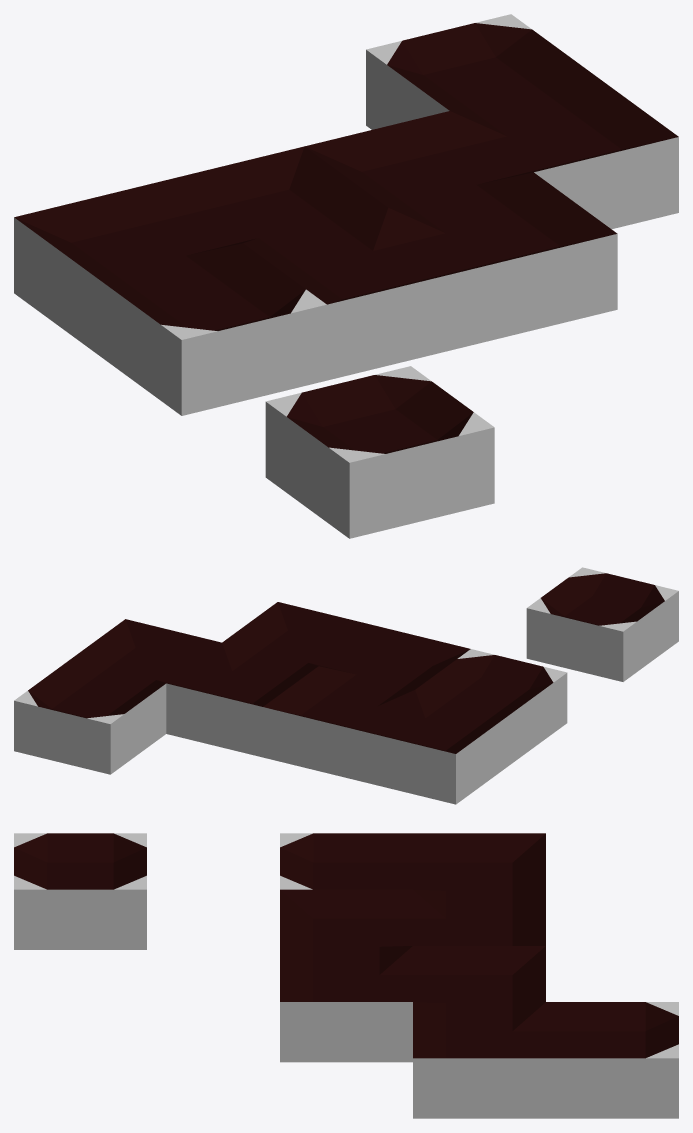
Rendered from 47s_path.obj.
The picture shows the model from 3 angles, top to bottom: view 1: azimuth 30°, elevation 25°; view 2: azimuth 150°, elevation 25°; view 3: azimuth 270°, elevation 25°; orthographic projection. The views are drawn at different scales.
Parts seen in each view (by area): view 1: hole.1.0_Cube.094, ending.1.2_ending.185, corner.3.2_corner.467, corner.2.2_corner.465, corner.1.3_corner.464, corner.4.3_corner.469, ending.4.4_ending.186, corner.2.3_corner.466, corner.3.3_corner.468; view 2: hole.1.0_Cube.094, ending.4.4_ending.186, corner.1.3_corner.464, corner.2.3_corner.466, ending.1.2_ending.185, corner.3.3_corner.468, corner.4.3_corner.469, corner.3.2_corner.467, corner.2.2_corner.465; view 3: hole.1.0_Cube.094, ending.4.4_ending.186, corner.3.2_corner.467, corner.4.3_corner.469, corner.2.2_corner.465, corner.1.3_corner.464, corner.3.3_corner.468, ending.1.2_ending.185, corner.2.3_corner.466.
Boxes of the visible parts, bbox=[...] form: hole.1.0_Cube.094: bbox=[265, 366, 494, 538]; ending.1.2_ending.185: bbox=[98, 243, 326, 415]; corner.3.2_corner.467: bbox=[389, 172, 617, 344]; corner.2.2_corner.465: bbox=[244, 208, 472, 380]; corner.1.3_corner.464: bbox=[14, 182, 242, 354]; corner.4.3_corner.469: bbox=[450, 75, 678, 229]; ending.4.4_ending.186: bbox=[366, 14, 594, 129]; corner.2.3_corner.466: bbox=[159, 146, 387, 253]; corner.3.3_corner.468: bbox=[305, 111, 533, 217]; hole.1.0_Cube.094: bbox=[526, 567, 678, 681]; ending.4.4_ending.186: bbox=[14, 660, 166, 774]; corner.1.3_corner.464: bbox=[359, 690, 511, 804]; corner.2.3_corner.466: bbox=[263, 666, 414, 780]; ending.1.2_ending.185: bbox=[415, 649, 567, 763]; corner.3.3_corner.468: bbox=[166, 643, 317, 757]; corner.4.3_corner.469: bbox=[70, 619, 221, 689]; corner.3.2_corner.467: bbox=[222, 602, 373, 672]; corner.2.2_corner.465: bbox=[319, 625, 470, 696]; hole.1.0_Cube.094: bbox=[14, 833, 146, 949]; ending.4.4_ending.186: bbox=[546, 1002, 678, 1118]; corner.3.2_corner.467: bbox=[280, 946, 412, 1062]; corner.4.3_corner.469: bbox=[413, 1002, 545, 1118]; corner.2.2_corner.465: bbox=[280, 889, 412, 960]; corner.1.3_corner.464: bbox=[413, 833, 545, 904]; corner.3.3_corner.468: bbox=[413, 946, 545, 1016]; ending.1.2_ending.185: bbox=[280, 833, 412, 889]; corner.2.3_corner.466: bbox=[413, 890, 545, 945].
Bounding box in the file's own units: 8 × 1 × 10.
